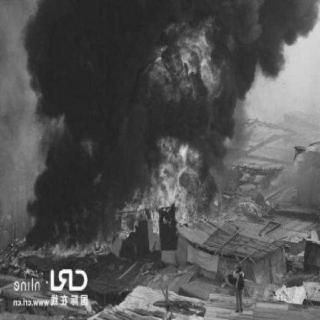Smoke: (44, 5, 142, 124), (236, 3, 312, 41)
